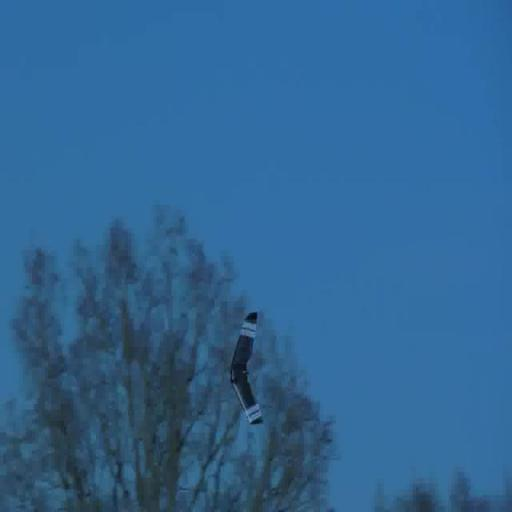uav: (226, 304, 268, 434)
